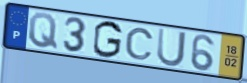3: (62, 16, 89, 54)
6: (189, 33, 216, 73)
C: (124, 27, 155, 61)
G: (92, 20, 124, 60)
Q: (27, 11, 59, 51)
U: (156, 27, 188, 69)
